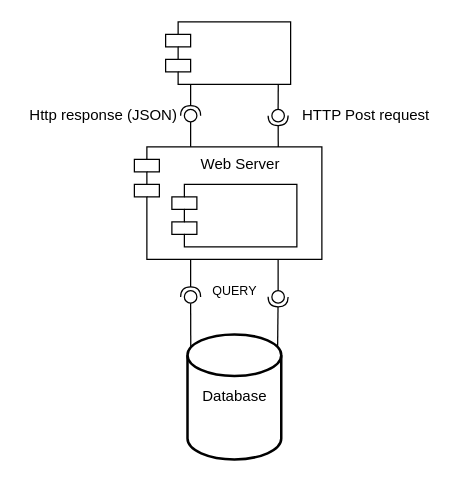
The diagram is 461 pixels wide and 483 high, and some of its shapes have lost their labels. Here are the shapes that lost their labels. From the top down, the centre of each, then its label:
point 227,52: Client
point 234,215: App Server
